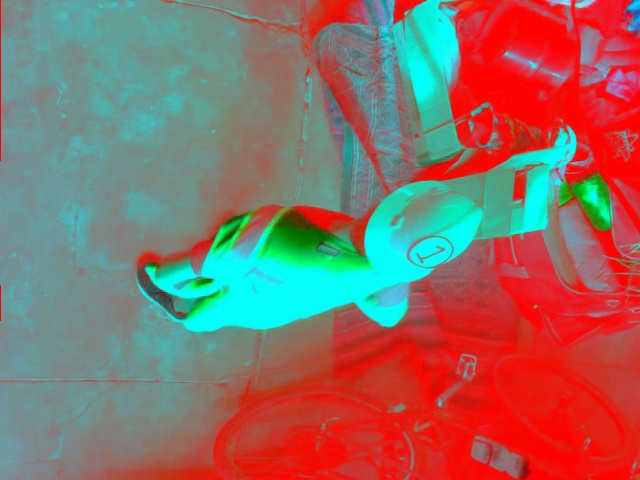one: (406, 234, 454, 266)
